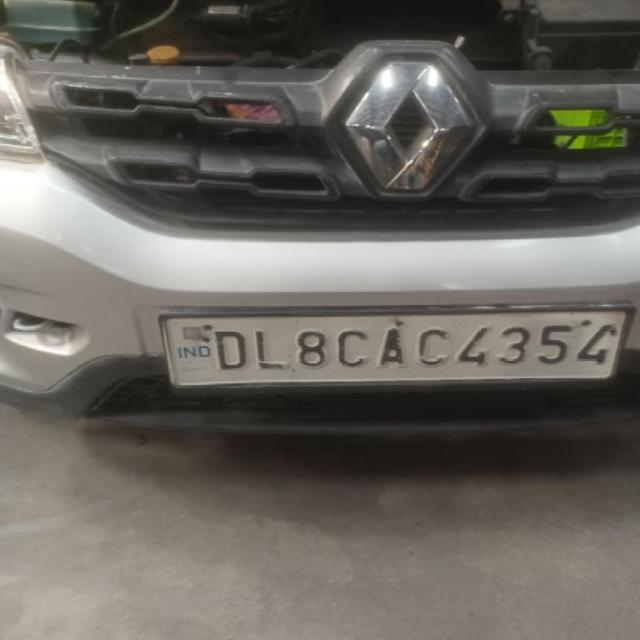license_plate: (158, 303, 633, 390)
